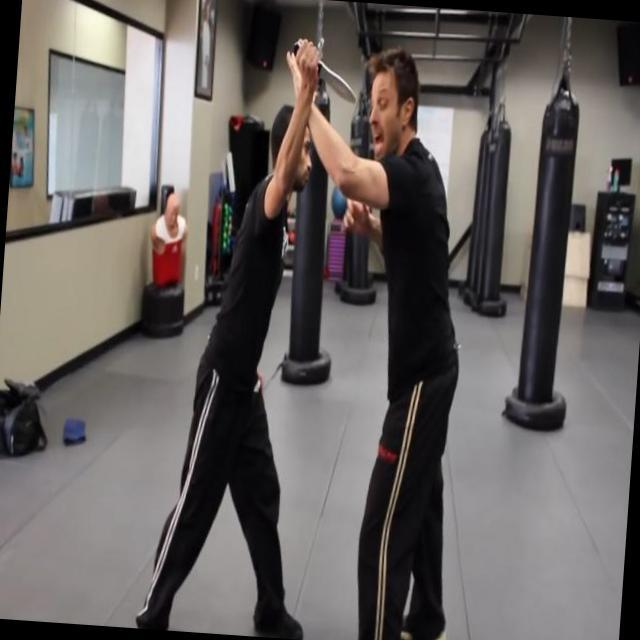Knife: (286, 32, 362, 105)
